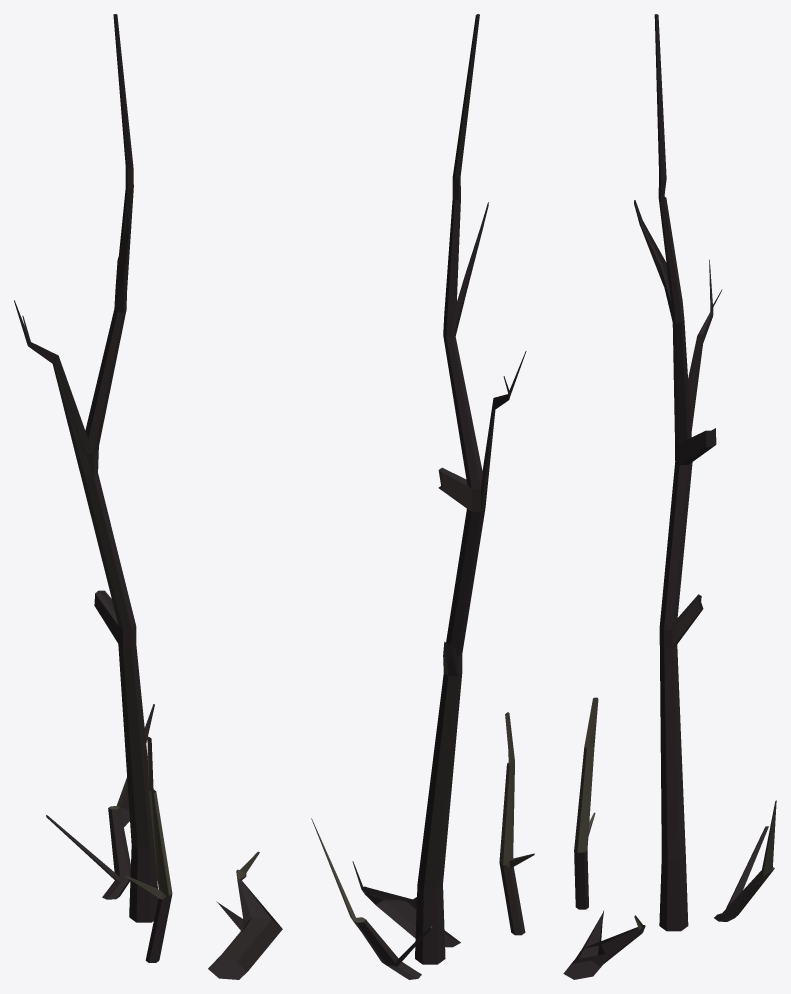
File: tree2.gltf
3 renders of one model, left to right at view 1: azimuth 30°, elevation 25°; view 2: azimuth 150°, elevation 25°; view 3: azimuth 270°, elevation 25°, orthographic. The views are drawn at different scales.
Visible parts, largest first — view 1: drzewo.02; view 2: drzewo.02; view 3: drzewo.02.
Part boxes in pixels (bbox=[...]): drzewo.02: bbox=[14, 14, 282, 979]; drzewo.02: bbox=[311, 14, 534, 979]; drzewo.02: bbox=[563, 14, 776, 979].
Size of the model in its own units: 1.09 by 4.78 by 1.
Materials: 1 (1 with a texture image).
